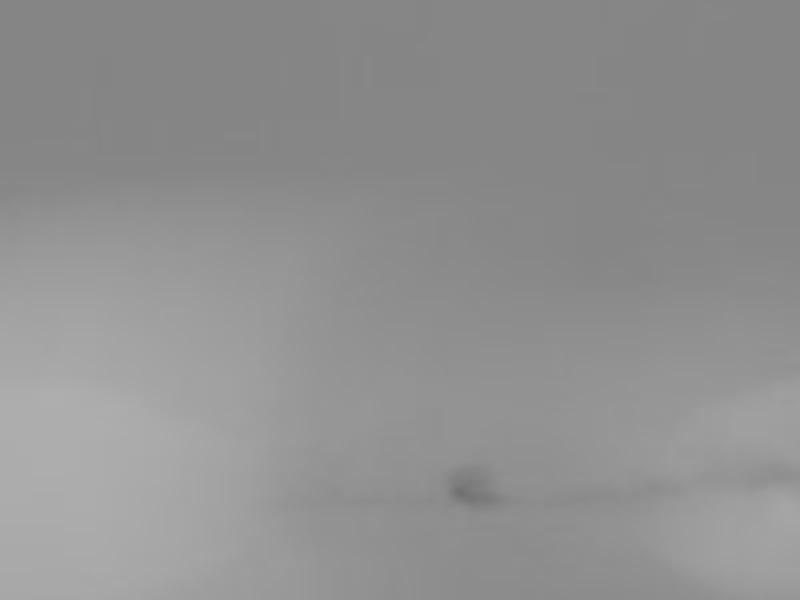defect: (449, 459, 496, 509)
